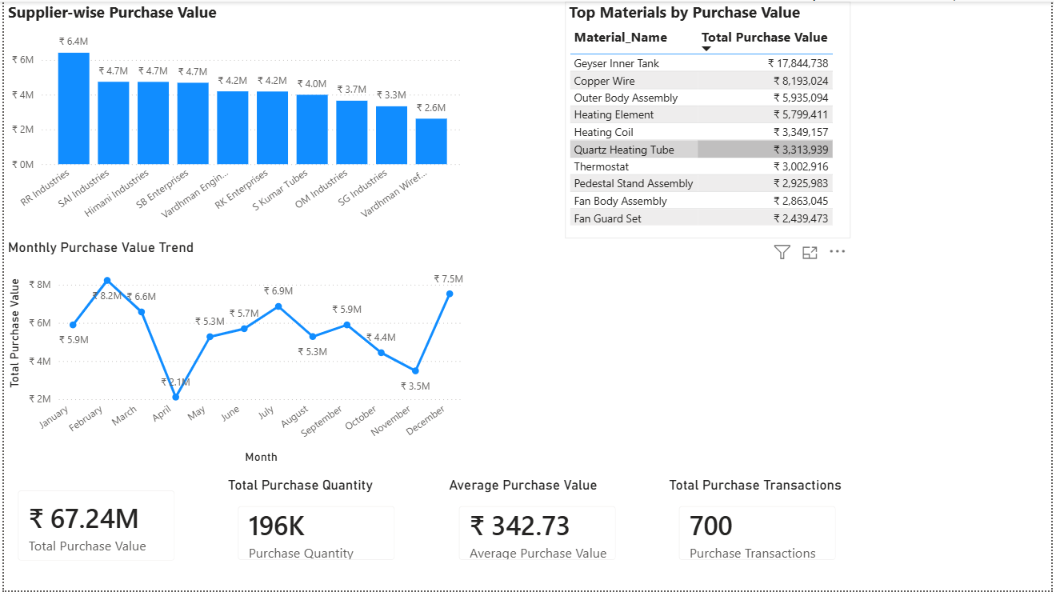

The page's visual inventory and layout, read from the dashboard file:
{"tool":"powerbi","page":{"name":"Purchase Value Analysis","canvas":[1280,720],"ordinal":1},"visuals":[{"type":"clusteredColumnChart","title":"Supplier-wise Purchase Value","fields":{"Category":["Suppliers.Supplier_Name"],"Y":["BOM.Total Purchase Value"]},"box":[0,0,567,280],"z":0},{"type":"tableEx","title":"Top Materials by Purchase Value","fields":{"Values":["Raw_Materials.Material_Name","BOM.Total Purchase Value"]},"box":[686,0,348.5,289.8],"z":1000},{"type":"lineChart","title":"Monthly Purchase Value Trend","fields":{"Category":["Purchase_Transactions.Purchase_Date.Variation.Date Hierarchy.Year","Purchase_Transactions.Purchase_Date.Variation.Date Hierarchy.Quarter","Purchase_Transactions.Purchase_Date.Variation.Date Hierarchy.Month","Purchase_Transactions.Purchase_Date.Variation.Date Hierarchy.Day"],"Y":["BOM.Total Purchase Value"]},"box":[0,290,567,280],"z":2000},{"type":"cardVisual","title":"Total Purchase Value","fields":{"Data":["BOM.Total Purchase Value"]},"box":[0,580.8,226,120],"z":3000},{"type":"cardVisual","title":"Total Purchase Quantity","fields":{"Data":["Sum(Purchase_Transactions.Purchase_Quantity)"]},"box":[269.4,580.8,226,120],"z":4000},{"type":"cardVisual","title":"Average Purchase Value","fields":{"Data":["BOM.Average Purchase Value"]},"box":[538.9,580.8,226,120],"z":5000},{"type":"cardVisual","title":"Total Purchase Transactions","fields":{"Data":["CountNonNull(Purchase_Transactions.Purchase_ID)"]},"box":[808.3,580.8,226,120],"z":6000}]}

Visuals, with their boxes in screenshot pixels (x1, y1, x2, y2), scaled from the page's 1280x720 canvas onto the 1054x594 screenshot:
"Supplier-wise Purchase Value" clusteredColumnChart: {"left": 0, "top": 0, "right": 467, "bottom": 231}
"Top Materials by Purchase Value" tableEx: {"left": 565, "top": 0, "right": 852, "bottom": 239}
"Monthly Purchase Value Trend" lineChart: {"left": 0, "top": 239, "right": 467, "bottom": 470}
"Total Purchase Value" cardVisual: {"left": 0, "top": 479, "right": 186, "bottom": 578}
"Total Purchase Quantity" cardVisual: {"left": 222, "top": 479, "right": 408, "bottom": 578}
"Average Purchase Value" cardVisual: {"left": 444, "top": 479, "right": 630, "bottom": 578}
"Total Purchase Transactions" cardVisual: {"left": 666, "top": 479, "right": 852, "bottom": 578}
